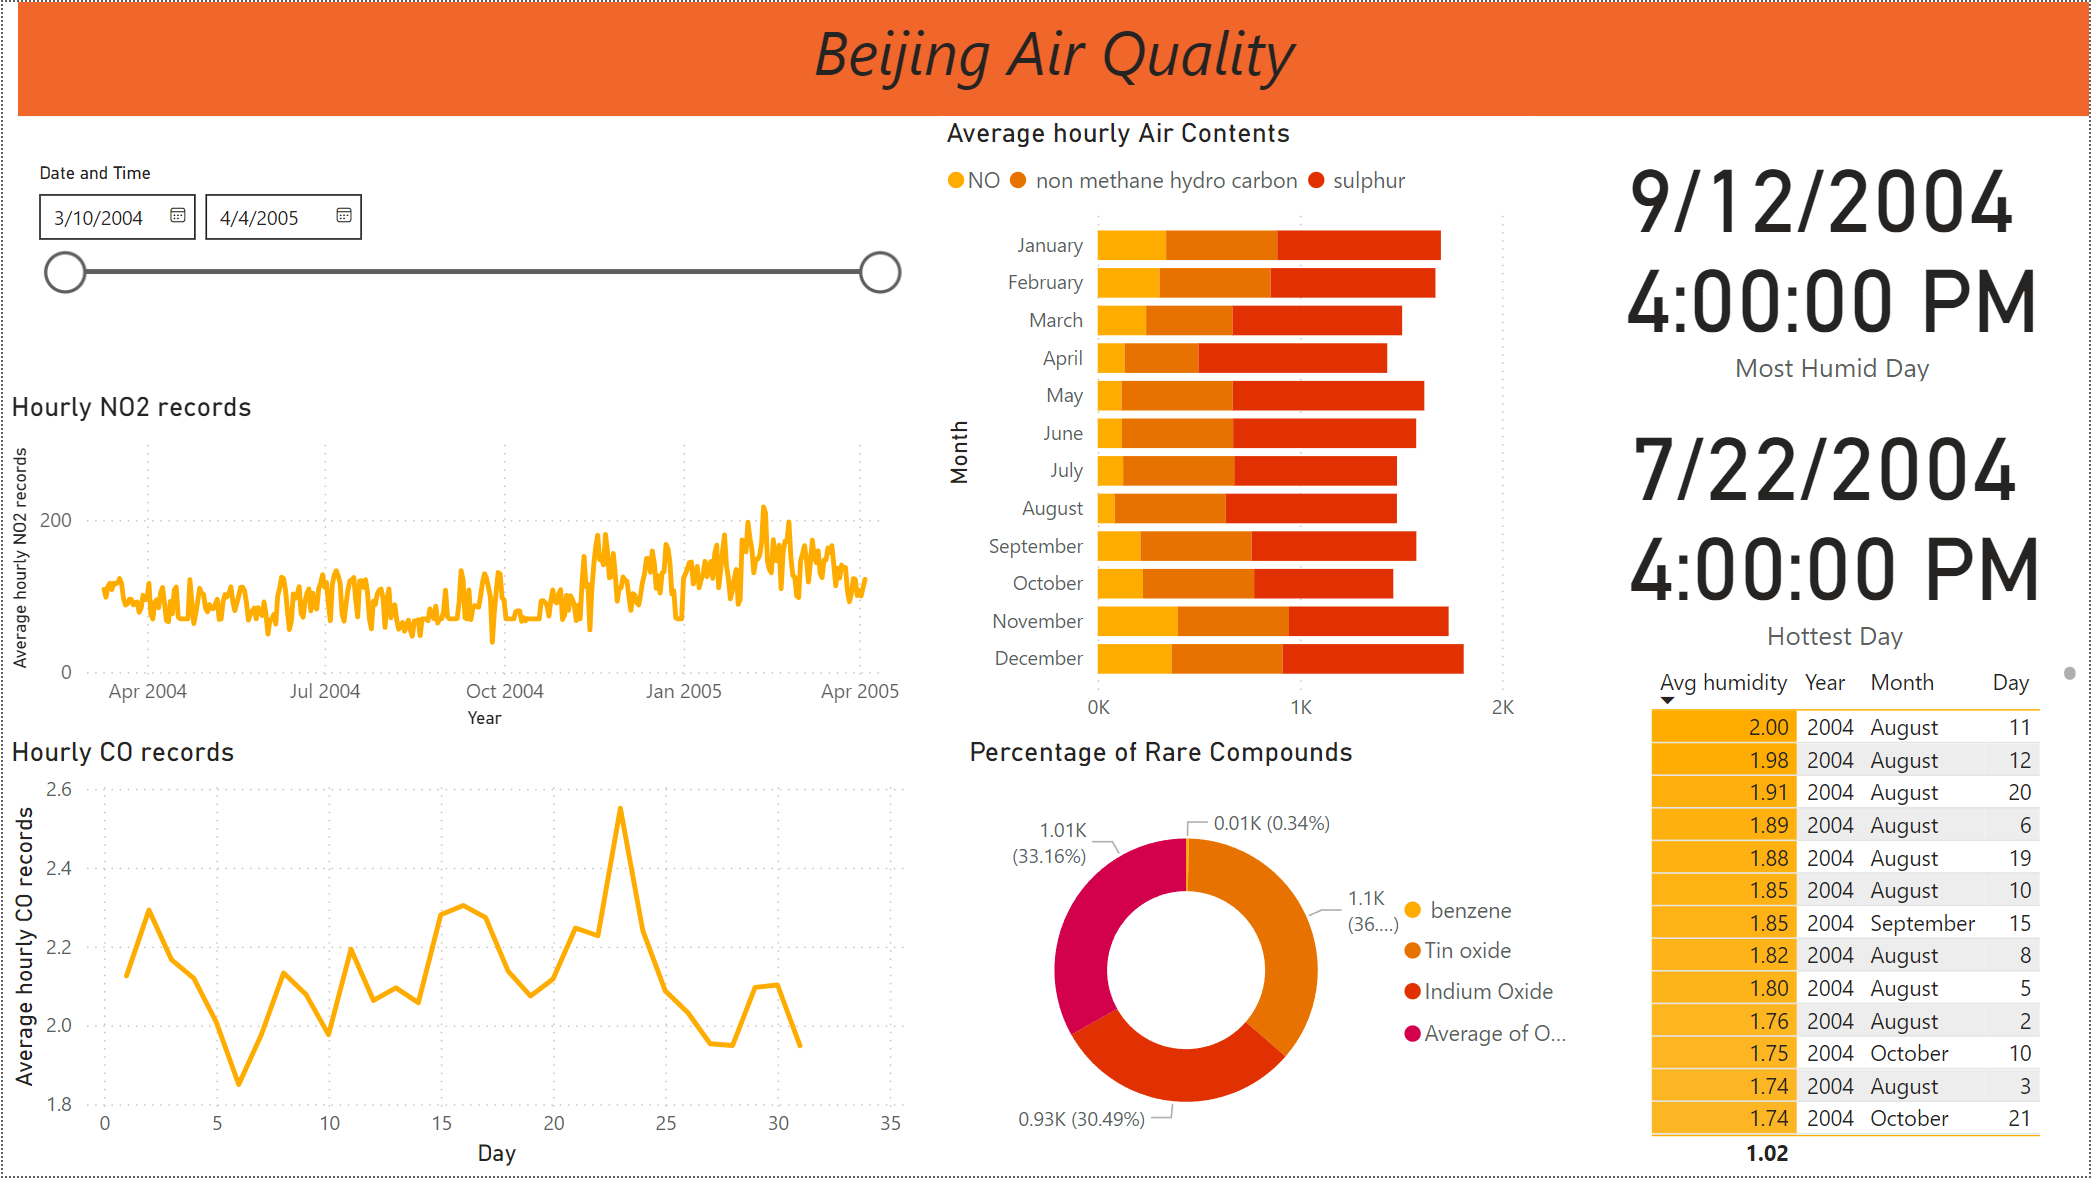

The page's visual inventory and layout, read from the dashboard file:
{"tool":"powerbi","page":{"name":"Page 1","canvas":[1280,720],"ordinal":0},"visuals":[{"type":"textbox","box":[9.2,0,1270.8,70.1],"z":0},{"type":"card","fields":{"Values":["AirQualityUCI.Hottest Date and Time"]},"box":[968.3,237.9,311.7,164.1],"z":1000},{"type":"slicer","fields":{"Values":["AirQualityUCI.Date and Time"]},"box":[9.2,94.1,549.6,143.9],"z":2000},{"type":"card","fields":{"Values":["AirQualityUCI.Most Humid Day"]},"box":[968.3,73.8,308,164.1],"z":3000},{"type":"barChart","title":"Average hourly Air Contents","fields":{"Y":["Avg(AirQualityUCI.NO)","Avg(AirQualityUCI.non methane hydro carbon)","Avg(AirQualityUCI.sulphur)"],"Category":["AirQualityUCI.Date and Time.Variation.Date Hierarchy.Month","AirQualityUCI.Date and Time.Variation.Date Hierarchy.Day"]},"box":[573.6,70.1,366,381],"z":4000},{"type":"lineChart","title":"Hourly  CO records","fields":{"Y":["Avg(AirQualityUCI.CO(hourly avg))"],"Category":["AirQualityUCI.Date and Time.Variation.Date Hierarchy.Year","AirQualityUCI.Date and Time.Variation.Date Hierarchy.Quarter","AirQualityUCI.Date and Time.Variation.Date Hierarchy.Month","AirQualityUCI.Date and Time.Variation.Date Hierarchy.Day"]},"box":[0,449.8,559,269.5],"z":5000},{"type":"lineChart","title":" Hourly NO2 records ","fields":{"Y":["Avg(AirQualityUCI.NO2)"],"Category":["AirQualityUCI.Date and Time.Variation.Date Hierarchy.Year","AirQualityUCI.Date and Time.Variation.Date Hierarchy.Quarter","AirQualityUCI.Date and Time.Variation.Date Hierarchy.Month","AirQualityUCI.Date and Time.Variation.Date Hierarchy.Day"]},"box":[0,237.9,558.8,212.1],"z":6000},{"type":"donutChart","title":"Percentage of Rare Compounds","fields":{"Y":["Avg(AirQualityUCI.benzene)","Avg(AirQualityUCI.Tin oxide)","Avg(AirQualityUCI.indium oxide)","Avg(AirQualityUCI.Ozone)"]},"box":[587.7,449.8,391.2,269.5],"z":7000},{"type":"tableEx","fields":{"Values":["Avg(AirQualityUCI.absolute humidity)","AirQualityUCI.Date and Time.Variation.Date Hierarchy.Year","AirQualityUCI.Date and Time.Variation.Date Hierarchy.Month","AirQualityUCI.Date and Time.Variation.Date Hierarchy.Day"]},"box":[1005.8,401.8,272,317.6],"z":8000}]}

Visuals, with their boxes in screenshot pixels (x1, y1, x2, y2), scaled from the page's 1280x720 canvas onto the 2092x1181 screenshot:
textbox: (x1=15, y1=0, x2=2091, y2=115)
card - AirQualityUCI.Hottest Date and Time: (x1=1583, y1=390, x2=2091, y2=659)
slicer - AirQualityUCI.Date and Time: (x1=15, y1=154, x2=913, y2=390)
card - AirQualityUCI.Most Humid Day: (x1=1583, y1=121, x2=2086, y2=390)
"Average hourly Air Contents" barChart: (x1=937, y1=115, x2=1536, y2=740)
"Hourly  CO records" lineChart: (x1=0, y1=738, x2=914, y2=1180)
" Hourly NO2 records " lineChart: (x1=0, y1=390, x2=913, y2=738)
"Percentage of Rare Compounds" donutChart: (x1=961, y1=738, x2=1600, y2=1180)
tableEx - Avg(AirQualityUCI.absolute humidity) x AirQualityUCI.Date and Time.Variation.Date Hierarchy.Year: (x1=1644, y1=659, x2=2088, y2=1180)
